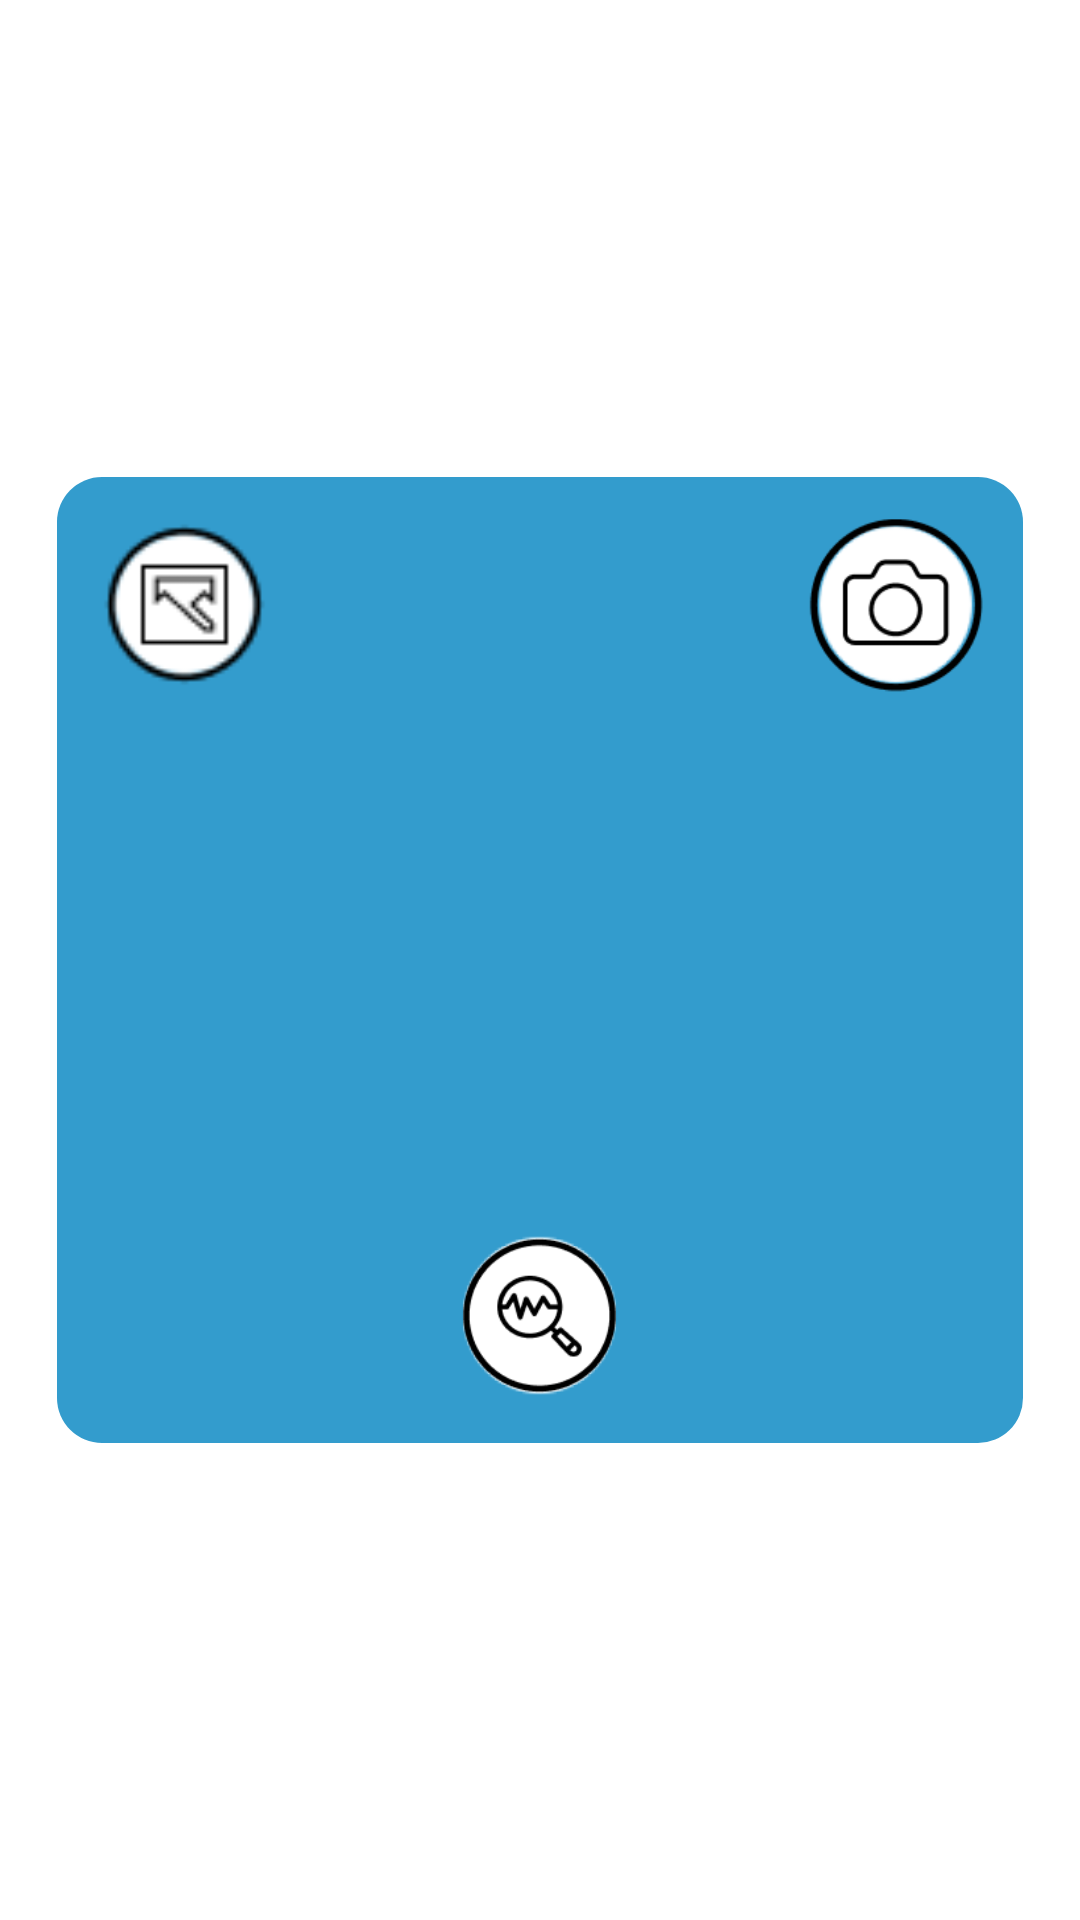

Icons on this 1080px x 1920px Android screen, each with the point to tap as (x=x, y=y):
analysis: (x=539, y=1315)
camera bulat: (x=896, y=605)
gallery: (x=184, y=604)
